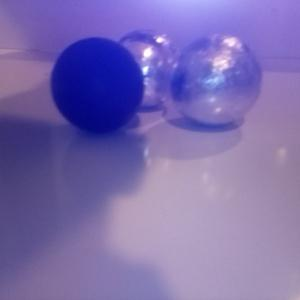alive_ball: (172, 33, 262, 126), (107, 29, 182, 108)
dead_ball: (50, 35, 144, 132)
